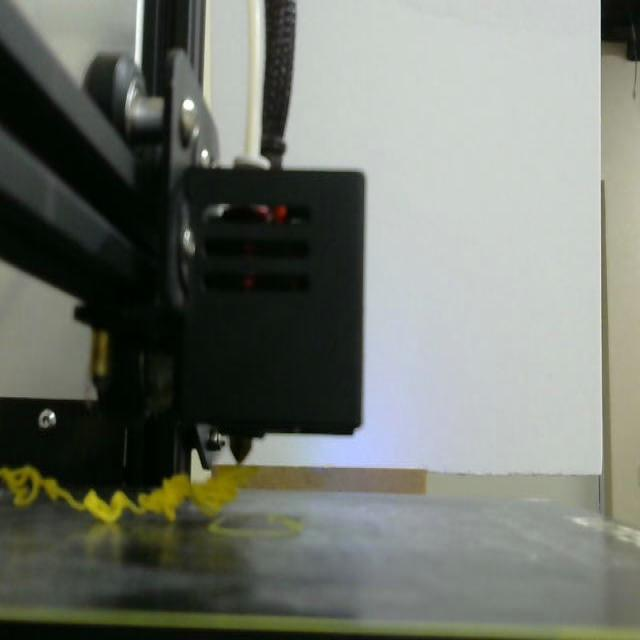spaghetti: (0, 467, 254, 523)
